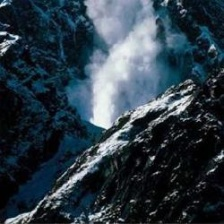neutral: (4, 3, 220, 220)
